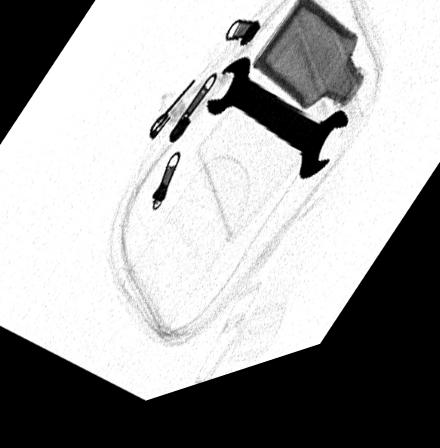Wrench: (205, 70, 349, 200)
